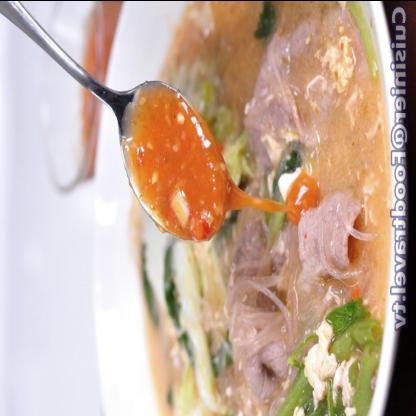Suki: (95, 1, 409, 408)
